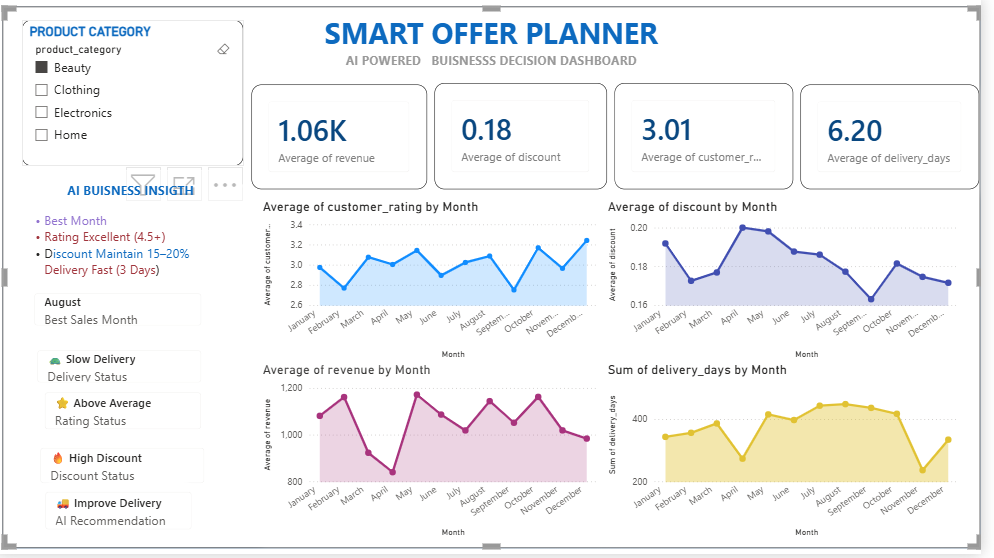

This screenshot's page, from the dashboard's own definition file:
{"tool":"powerbi","page":{"name":"Page 15","canvas":[1280,720],"ordinal":14},"visuals":[{"type":"textbox","box":[9.7,9.7,1269.6,703],"z":0,"group":"g2"},{"type":"group","id":"g1","title":"Group 2","box":[9.7,9.7,1269.6,703],"z":1000},{"type":"slicer","title":"PRODUCT CATEGORY","fields":{"Values":["eccomerce.product_category"]},"box":[35.6,26.4,287.6,189.5],"z":1000,"group":"g2"},{"type":"cardVisual","fields":{"Data":["Avg(eccomerce.revenue)"]},"box":[336.8,80.6,221.5,148.5],"z":1000,"group":"g1"},{"type":"group","id":"g2","title":"Group 1","box":[9.7,9.7,1269.6,703],"z":2000,"group":"g1"},{"type":"cardVisual","fields":{"Data":["Avg(eccomerce.revenue)"]},"box":[333.5,111.5,227.8,136.3],"z":2000,"group":"g2"},{"type":"cardVisual","fields":{"Data":["Avg(eccomerce.customer_rating)"]},"box":[804.7,109.4,231.7,138.3],"z":3000,"group":"g1"},{"type":"lineChart","fields":{"Category":["eccomerce.order_date.Variation.Date Hierarchy.Month"],"Y":["Avg(eccomerce.revenue)"]},"box":[343.3,471.1,442.7,231.7],"z":3000,"group":"g2"},{"type":"cardVisual","fields":{"Data":["Avg(eccomerce.delivery_days)"]},"box":[1046.2,111.5,231.7,136.3],"z":4000,"group":"g1"},{"type":"lineChart","fields":{"Category":["eccomerce.order_date.Variation.Date Hierarchy.Month"],"Y":["Avg(eccomerce.discount)"]},"box":[790.1,259.2,465,211.9],"z":4000,"group":"g2"},{"type":"cardVisual","fields":{"Data":["Avg(eccomerce.discount)"]},"box":[571,109.5,223.9,138.3],"z":5000,"group":"g1"},{"type":"lineChart","fields":{"Y":["Avg(eccomerce.customer_rating)"],"Category":["eccomerce.order_date.Variation.Date Hierarchy.Month"]},"box":[343.3,259.2,442.7,211.9],"z":5000,"group":"g2"},{"type":"lineChart","fields":{"Category":["eccomerce.order_date.Variation.Date Hierarchy.Month"],"Y":["Sum(eccomerce.delivery_days)"]},"box":[790.1,471.1,465,231.7],"z":6000,"group":"g2"},{"type":"textbox","box":[25.8,222.4,297.9,159.7],"z":7000,"group":"g2"},{"type":"cardVisual","fields":{"Data":["eccomerce.Best Sales Month"]},"box":[38.9,370.6,241.5,66.2],"z":8000,"group":"g2"},{"type":"cardVisual","fields":{"Data":["eccomerce.Delivery Status"]},"box":[42.8,444.6,237.6,66.2],"z":9000,"group":"g2"},{"type":"cardVisual","fields":{"Data":["eccomerce.Rating Status"]},"box":[52.5,499.1,227.8,72],"z":10000,"group":"g2"},{"type":"cardVisual","fields":{"Data":["eccomerce.Discount Status"]},"box":[47.2,570.5,237.6,70.1],"z":11000,"group":"g2"},{"type":"cardVisual","fields":{"Data":["eccomerce.AI Recommendation"]},"box":[52.5,627.7,216.1,75.9],"z":12000,"group":"g2"}]}

Visuals, with their boxes in screenshot pixels (x1, y1, x2, y2), scaled from the page's 1280x720 canvas onto the 994x558 screenshot:
textbox: pyautogui.locateOnScreen(8, 8, 993, 552)
"Group 2" group: pyautogui.locateOnScreen(8, 8, 993, 552)
"PRODUCT CATEGORY" slicer: pyautogui.locateOnScreen(28, 20, 251, 167)
cardVisual - Avg(eccomerce.revenue): pyautogui.locateOnScreen(262, 62, 434, 178)
"Group 1" group: pyautogui.locateOnScreen(8, 8, 993, 552)
cardVisual - Avg(eccomerce.revenue): pyautogui.locateOnScreen(259, 86, 436, 192)
cardVisual - Avg(eccomerce.customer_rating): pyautogui.locateOnScreen(625, 85, 805, 192)
lineChart - eccomerce.order_date.Variation.Date Hierarchy.Month x Avg(eccomerce.revenue): pyautogui.locateOnScreen(267, 365, 610, 545)
cardVisual - Avg(eccomerce.delivery_days): pyautogui.locateOnScreen(812, 86, 992, 192)
lineChart - eccomerce.order_date.Variation.Date Hierarchy.Month x Avg(eccomerce.discount): pyautogui.locateOnScreen(614, 201, 975, 365)
cardVisual - Avg(eccomerce.discount): pyautogui.locateOnScreen(443, 85, 617, 192)
lineChart - Avg(eccomerce.customer_rating) x eccomerce.order_date.Variation.Date Hierarchy.Month: pyautogui.locateOnScreen(267, 201, 610, 365)
lineChart - eccomerce.order_date.Variation.Date Hierarchy.Month x Sum(eccomerce.delivery_days): pyautogui.locateOnScreen(614, 365, 975, 545)
textbox: pyautogui.locateOnScreen(20, 172, 251, 296)
cardVisual - eccomerce.Best Sales Month: pyautogui.locateOnScreen(30, 287, 218, 339)
cardVisual - eccomerce.Delivery Status: pyautogui.locateOnScreen(33, 345, 218, 396)
cardVisual - eccomerce.Rating Status: pyautogui.locateOnScreen(41, 387, 218, 443)
cardVisual - eccomerce.Discount Status: pyautogui.locateOnScreen(37, 442, 221, 496)
cardVisual - eccomerce.AI Recommendation: pyautogui.locateOnScreen(41, 486, 209, 545)
